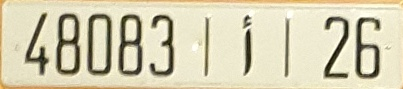0: (86, 13, 113, 77)
2: (323, 15, 352, 79)
3: (149, 14, 175, 78)
4: (24, 12, 50, 77)
6: (355, 16, 382, 79)
8: (116, 14, 144, 77), (55, 12, 80, 77)
a: (239, 13, 256, 77)
